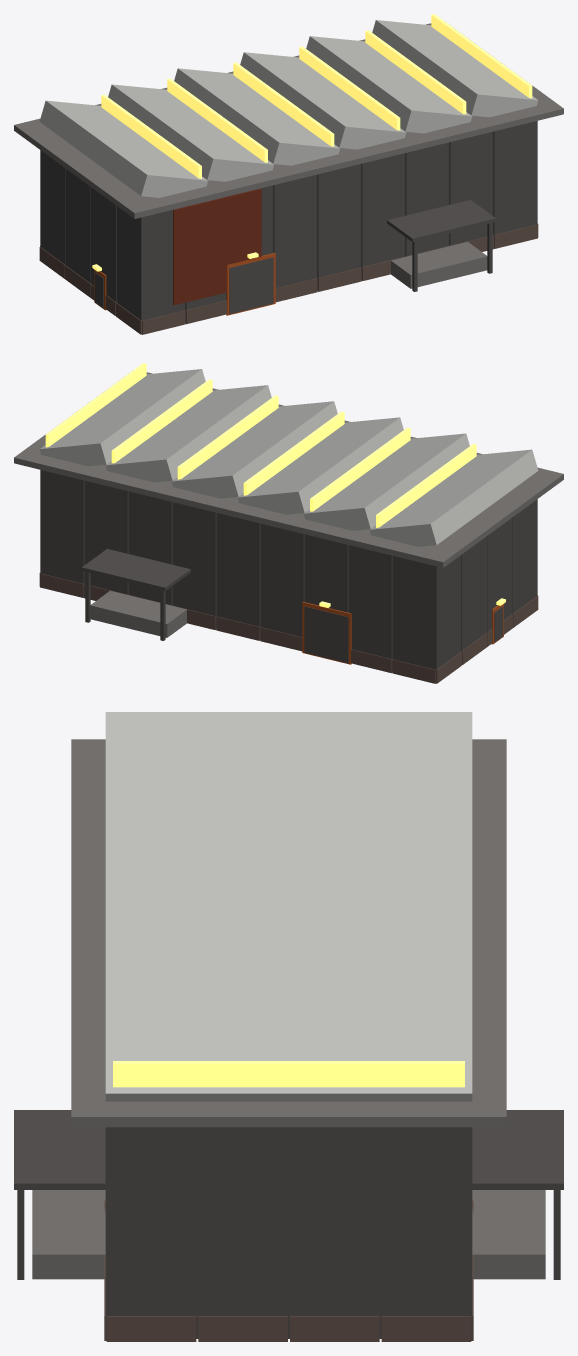
File: B_hall_b.glb
3 renders of one model, top to bottom at view 1: azimuth 30°, elevation 25°; view 2: azimuth 150°, elevation 25°; view 3: azimuth 270°, elevation 25°, orthographic. The views are drawn at different scales.
Visible parts, largest first — view 1: Cube.100, Cube.078, Cube.101, Cube.105, Cube.107, Cube.109, Cube.103, Cube.111, Cube.012, Cube.024, Cube.009, Cube.015 (+25 smaller); view 2: Cube.100, Cube.101, Cube.105, Cube.107, Cube.109, Cube.103, Cube.111, Cube.039, Cube.051, Cube.036, Cube.030, Cube.027 (+24 smaller); view 3: Cube.100, Cube.111, Cube.109, Cube.103, Cube.105, Cube.107, Cube.101, Cube.066, Cube.075, Cube.069, Cube.072, Cube.112 (+9 smaller).
Part boxes in pixels (<box>): Cube.100: <box>14,23,563,218</box>; Cube.078: <box>173,188,261,305</box>; Cube.101: <box>39,100,207,197</box>; Cube.105: <box>174,68,340,165</box>; Cube.107: <box>240,52,406,149</box>; Cube.109: <box>306,36,472,133</box>; Cube.103: <box>108,84,273,181</box>; Cube.111: <box>372,20,538,117</box>; Cube.012: <box>317,164,361,291</box>; Cube.024: <box>493,121,537,248</box>; Cube.009: <box>273,174,317,287</box>; Cube.015: <box>361,153,405,280</box>; Cube.100: <box>14,372,563,567</box>; Cube.101: <box>370,449,538,546</box>; Cube.105: <box>237,417,403,514</box>; Cube.107: <box>171,401,337,498</box>; Cube.109: <box>105,385,271,482</box>; Cube.103: <box>304,433,469,530</box>; Cube.111: <box>39,369,205,466</box>; Cube.039: <box>216,513,260,639</box>; Cube.051: <box>40,470,84,597</box>; Cube.036: <box>260,523,304,636</box>; Cube.030: <box>348,545,392,672</box>; Cube.027: <box>392,556,435,669</box>; Cube.100: <box>71,739,506,1127</box>; Cube.111: <box>105,1002,472,1101</box>; Cube.109: <box>105,944,472,1002</box>; Cube.103: <box>105,770,472,828</box>; Cube.105: <box>105,828,472,886</box>; Cube.107: <box>105,886,472,944</box>; Cube.101: <box>105,712,472,769</box>; Cube.066: <box>106,1127,196,1316</box>; Cube.075: <box>381,1127,471,1316</box>; Cube.069: <box>198,1127,287,1316</box>; Cube.072: <box>290,1127,379,1316</box>; Cube.112: <box>113,1061,464,1087</box>.
Size of the model in its own units: 39 by 13.86 by 24.
